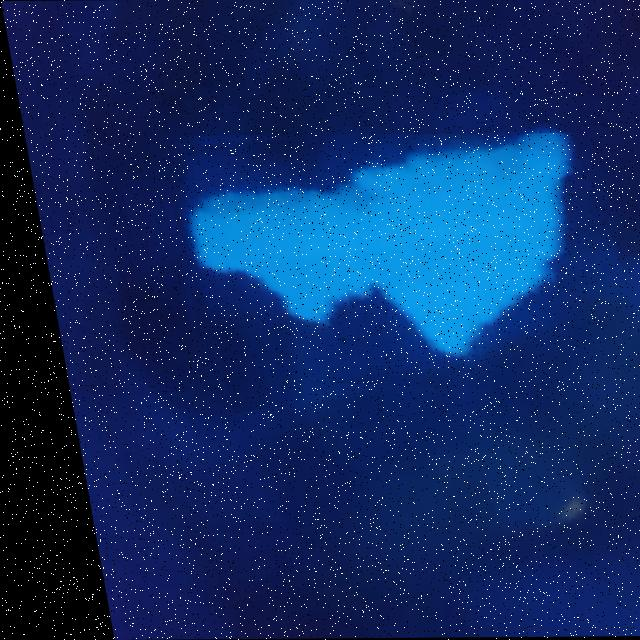litter: (156, 132, 631, 401)
